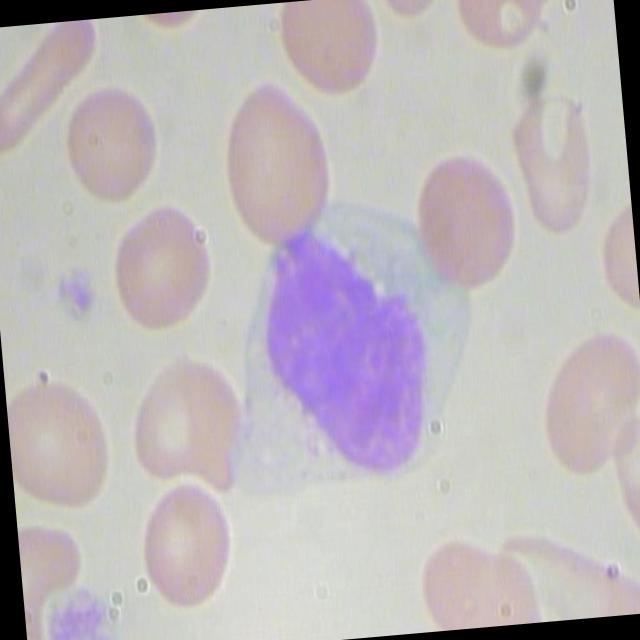RBC: (210, 67, 342, 255), (2, 355, 126, 514), (121, 350, 252, 500), (398, 142, 528, 292), (123, 466, 246, 622), (500, 71, 610, 244), (100, 194, 220, 340), (530, 324, 640, 477), (56, 72, 165, 218), (0, 18, 109, 160)
WBC: (205, 188, 486, 524)
